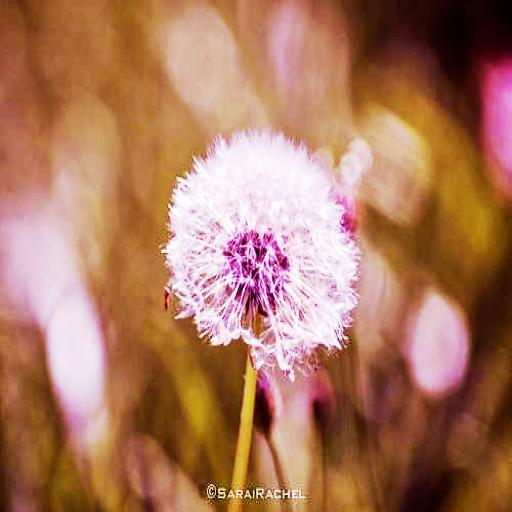dandelion: (168, 134, 354, 372)
